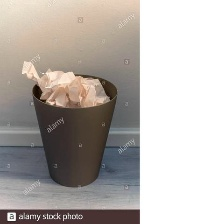book: (15, 54, 114, 109)
